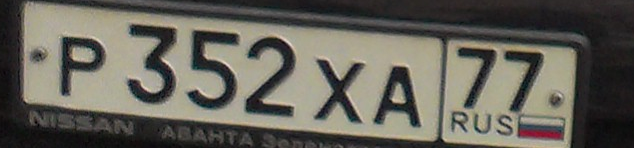character: (186, 26, 242, 114), (125, 20, 181, 107), (245, 33, 299, 119), (373, 50, 425, 132), (311, 51, 366, 125), (56, 33, 107, 104), (453, 42, 499, 115), (503, 44, 546, 114)
